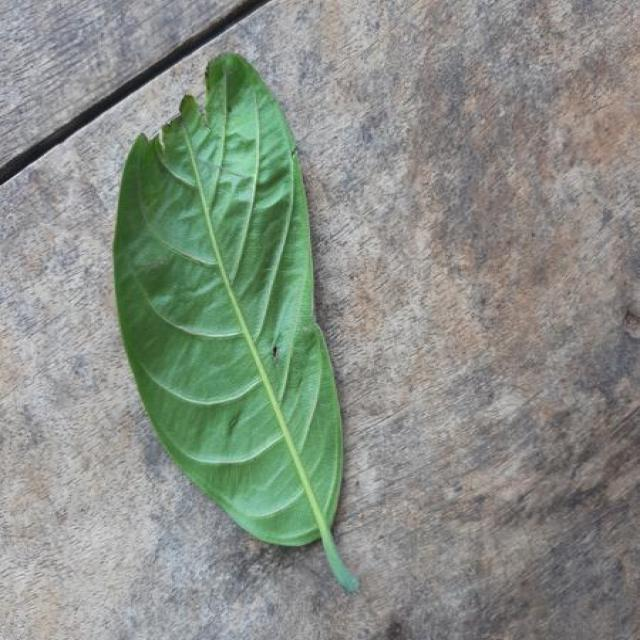leaf: (111, 50, 360, 593)
